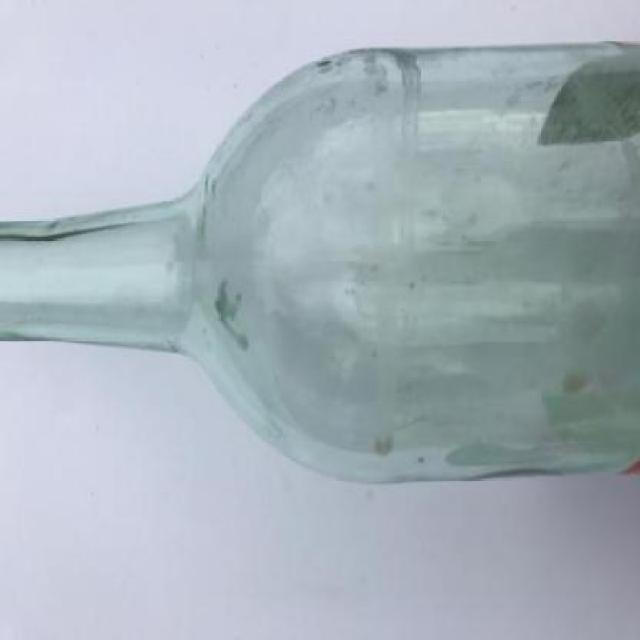kaca: (0, 38, 638, 479)
